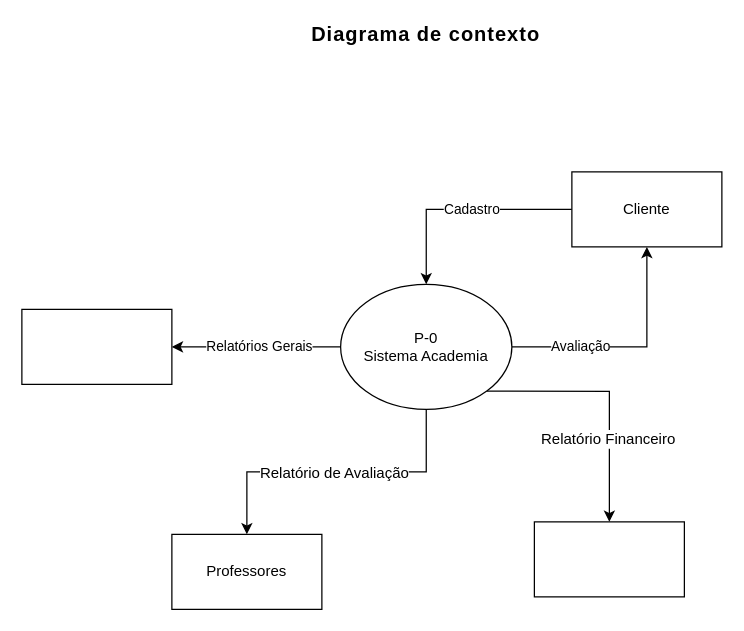
Some shapes in this 744 by 631 pixel diagram are drawn without their labels. Here are the shapes that lost their labels. From the top down, the centre of each, then its label:
At point (96, 346): "Gerencia da Academia".
At point (608, 559): "Setor Financeiro".
